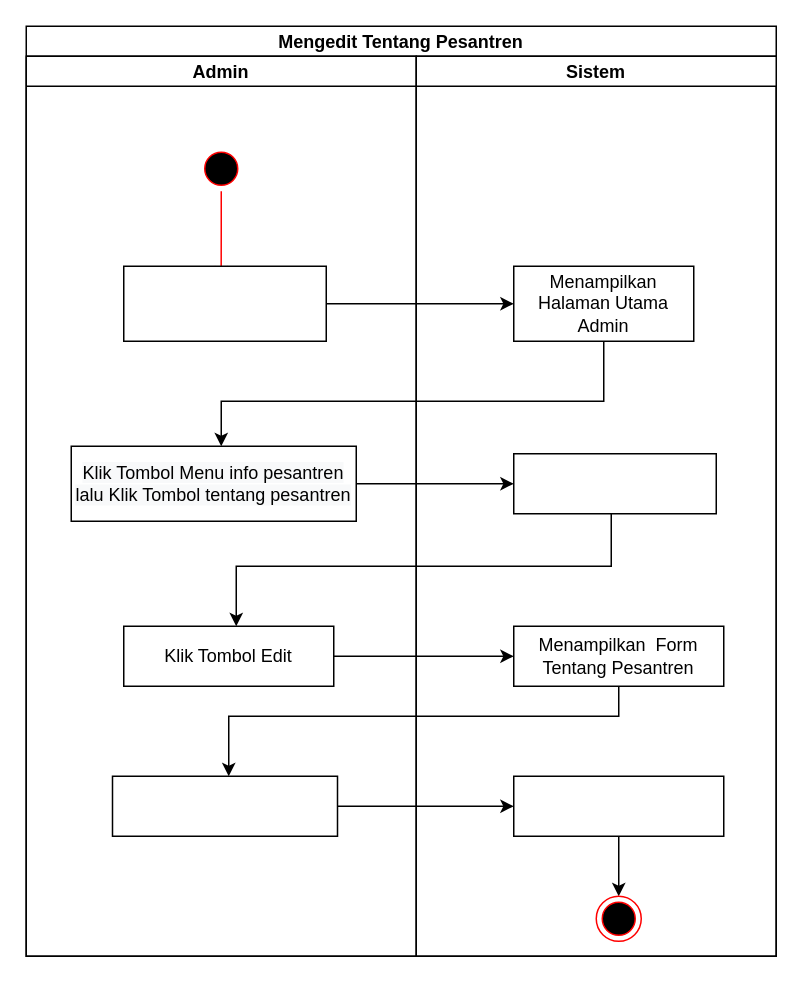
Image size: 803x983. Some labels were removed from this diagram. Each missing label, with the centre of its shape:
"Login" goes at point (224, 303).
"Menambah atau mengedit tentang pesantren, lalu klik simpan" goes at point (224, 805).
"Menampilkan Tentang Pesantren" goes at point (614, 483).
"Menyimpan dan memperbarui data tentang pesantren" goes at point (618, 805).
